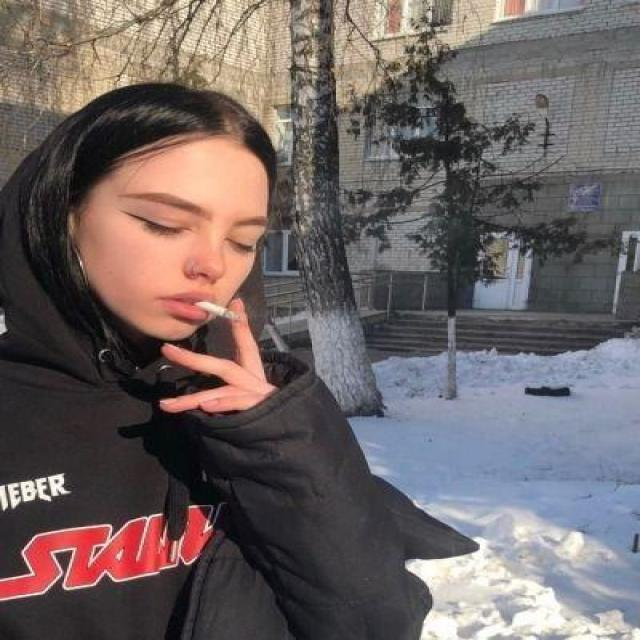cigarette: (184, 286, 254, 336)
